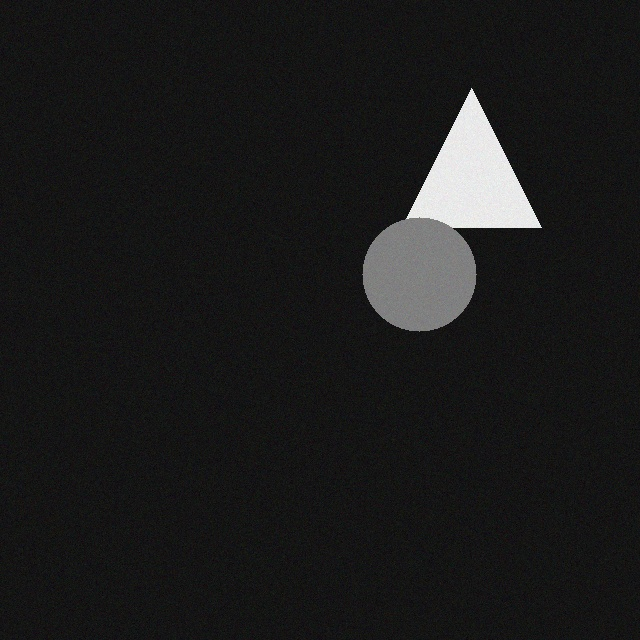circle: (356, 214, 470, 328)
triangle: (396, 85, 535, 224)
